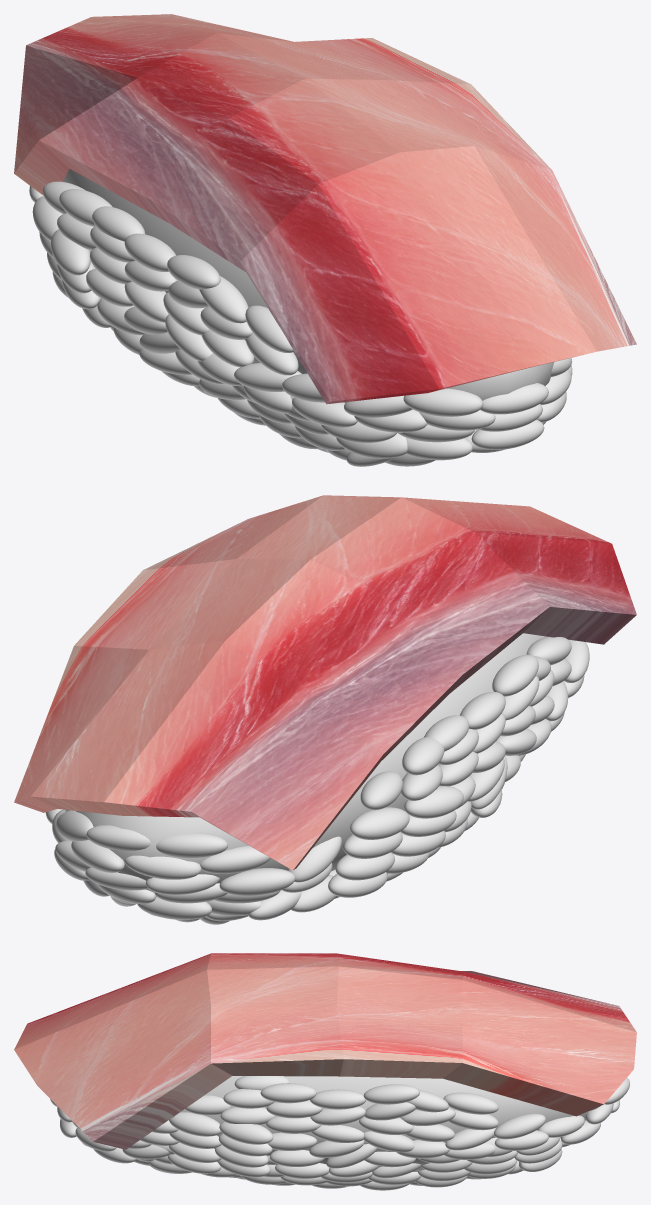
Rendered from buri.fbx.
3 renders of one model, top to bottom at view 1: azimuth 30°, elevation 25°; view 2: azimuth 150°, elevation 25°; view 3: azimuth 270°, elevation 25°, orthographic. The views are drawn at different scales.
Visible parts, largest first — view 1: 平面, 球, 球.117, 球.148, 球.155, 球.134, 球.149, 球.158, 球.137, 球.131, 球.146, 球.115 (+30 smaller); view 2: 平面, 球, 球.173, 球.114, 球.172, 球.174, 球.181, 球.148, 球.115, 球.080, 球.167, 球.081 (+28 smaller); view 3: 平面, 球, 球.041, 球.007, 球.009, 球.016, 球.018, 球.006, 球.040, 球.012, 球.073, 球.001 (+43 smaller).
Boxes of the visible parts, x1,y1,x2,y2 form: 平面: (14,14,636,404); 球: (62,169,554,402); 球.117: (403,388,483,416); 球.148: (167,255,220,289); 球.155: (480,383,548,414); 球.134: (199,276,248,323); 球.149: (124,233,175,271); 球.158: (471,419,544,449); 球.137: (245,305,293,352); 球.131: (292,397,357,427); 球.146: (92,206,145,241); 球.115: (50,229,90,275); 平面: (14,495,636,870); 球: (65,633,546,901); 球.173: (219,868,295,895); 球.114: (350,807,409,839); 球.172: (156,832,228,858); 球.174: (124,855,201,879); 球.181: (200,845,270,873); 球.148: (492,654,538,696); 球.115: (404,786,463,818); 球.080: (360,771,402,810); 球.167: (86,825,150,850); 球.081: (402,736,444,775); 平面: (14,953,636,1149); 球: (180,1076,588,1171); 球.041: (169,1112,221,1136); 球.007: (363,1084,419,1104); 球.009: (260,1083,316,1103); 球.016: (494,1113,545,1139); 球.018: (443,1092,498,1114); 球.006: (310,1089,365,1109); 球.040: (219,1121,273,1144); 球.012: (363,1131,414,1152); 球.073: (220,1107,274,1124); 球.001: (310,1106,365,1125).
Size of the model in its own units: 242 by 183 by 495.
2 materials, 1 textured.
